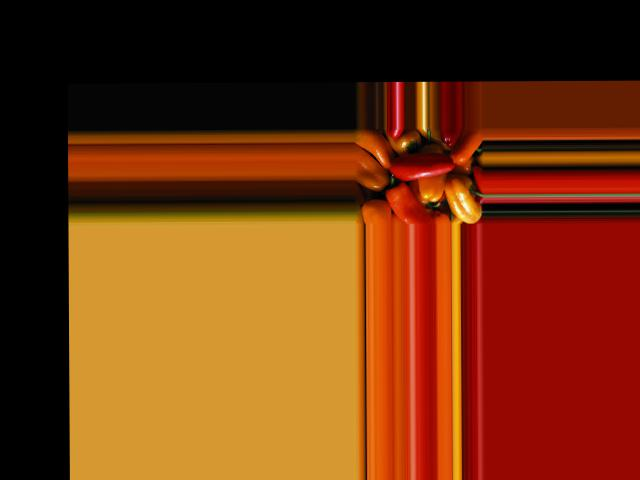bell_pepper: (442, 178, 482, 222)
